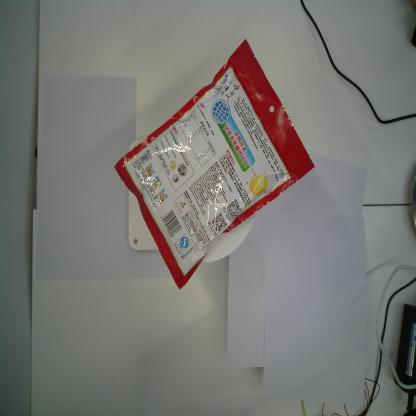Instant Drink: (111, 38, 315, 289)
